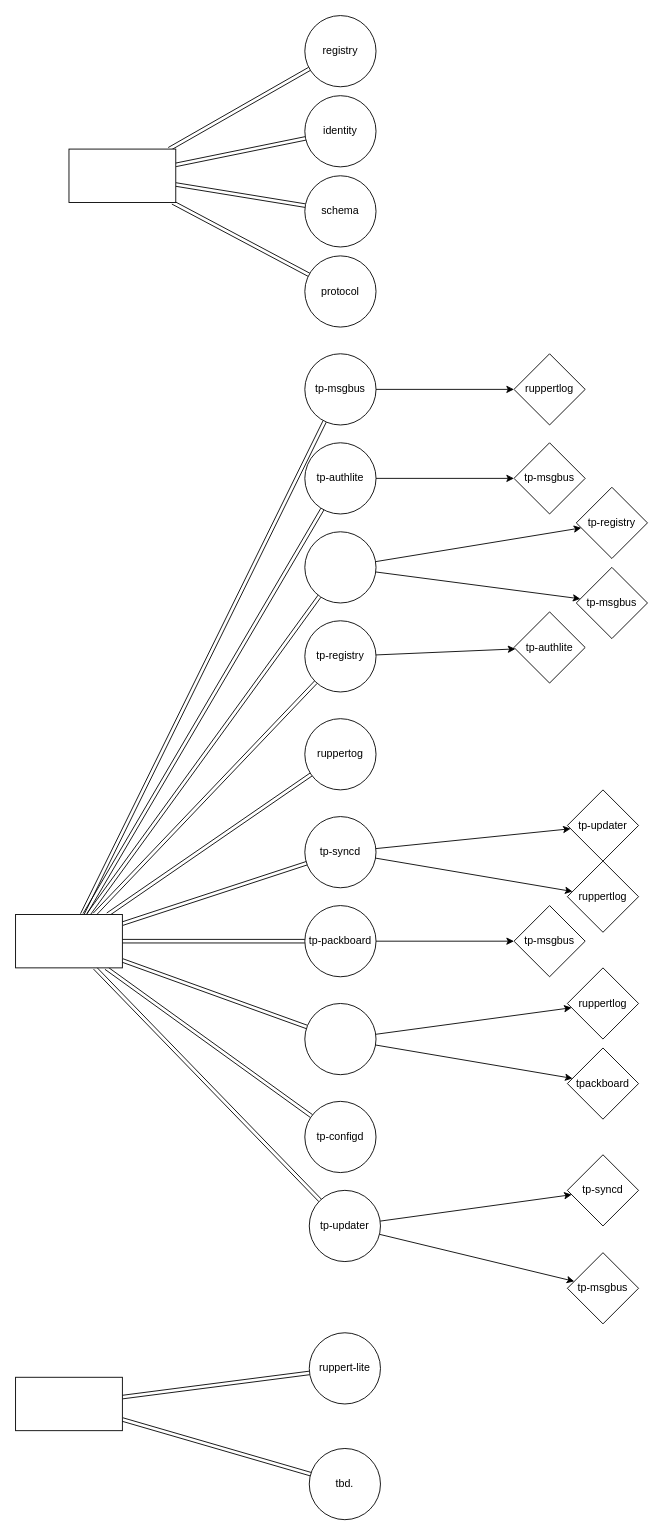
Some shapes in this 663 by 1535 pixel diagram are drawn without their labels. Each missing label, with the centre of its shape:
Core: the point at 122,175
Runtime: the point at 68,1403
Services: the point at 68,941
tp-healthstats: the point at 340,1039
tp-netlink: the point at 340,567
